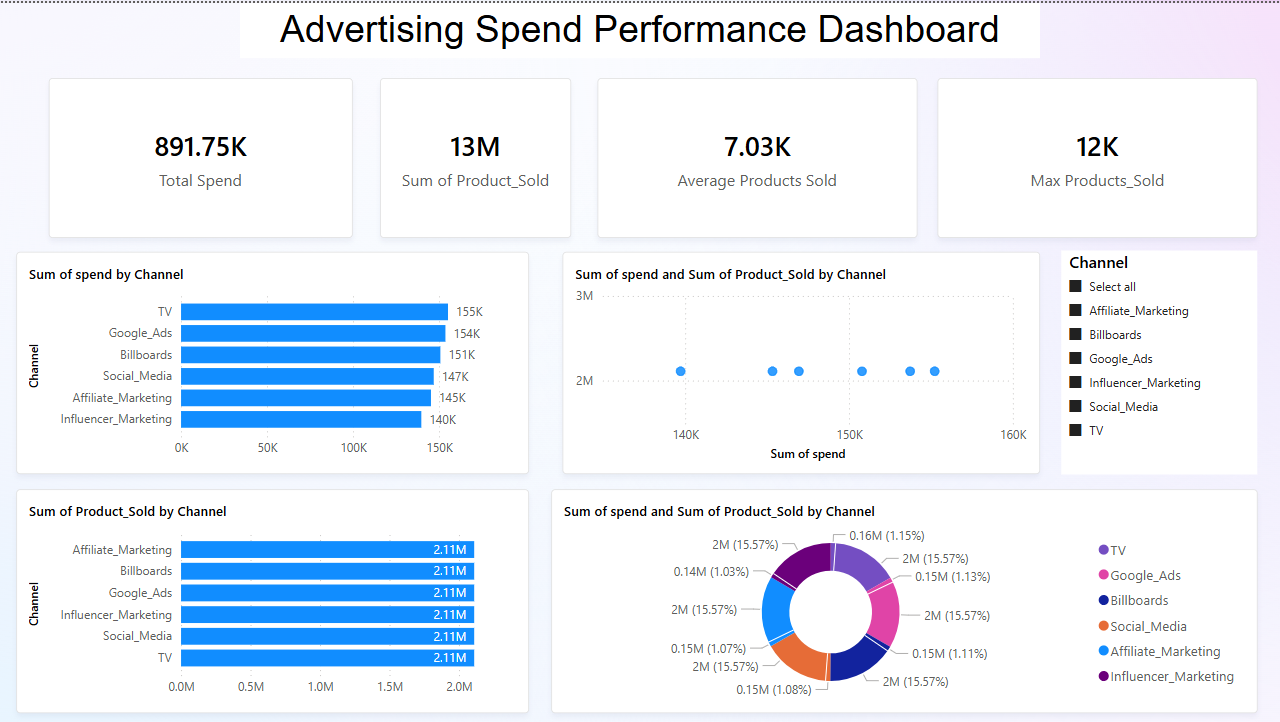

Layout of this report page (visuals, bound fields, positions):
{"tool":"powerbi","page":{"name":"Page 1","canvas":[1280,720],"ordinal":0},"visuals":[{"type":"card","fields":{"Values":["Sum(CampaignData.Product_Sold)"]},"box":[380,75,191.2,160],"z":1000},{"type":"card","fields":{"Values":["CampaignData.Total Spend"]},"box":[48.8,75,303.8,160],"z":4001},{"type":"card","fields":{"Values":["CampaignData.Average Products Sold"]},"box":[597.5,75,320,160],"z":4002},{"type":"card","fields":{"Values":["CampaignData.Max Products_Sold"]},"box":[937.5,75,320,160],"z":4004},{"type":"clusteredBarChart","fields":{"Category":["CampaignData.Channel"],"Y":["Sum(CampaignData.spend)"]},"box":[16.2,248.8,512.5,222.5],"z":4005},{"type":"clusteredBarChart","fields":{"Category":["CampaignData.Channel"],"Y":["Sum(CampaignData.Product_Sold)"]},"box":[16.2,486.2,512.5,223.8],"z":4006},{"type":"scatterChart","fields":{"X":["Sum(CampaignData.spend)"],"Y":["Sum(CampaignData.Product_Sold)"],"Category":["CampaignData.Channel"]},"box":[562.5,248.8,477.5,222.5],"z":4007},{"type":"slicer","fields":{"Values":["CampaignData.Channel"]},"box":[1061.2,247.5,196.2,223.8],"z":4008},{"type":"textbox","box":[240,0,800,55],"z":4009},{"type":"donutChart","fields":{"Category":["CampaignData.Channel"],"Y":["Sum(CampaignData.spend)","Sum(CampaignData.Product_Sold)"]},"box":[551.2,486.2,706.2,223.8],"z":4010}]}

Visuals, with their boxes in screenshot pixels (x1, y1, x2, y2), scaled from the page's 1280x720 canvas onto the 1280x722 screenshot:
card - Sum(CampaignData.Product_Sold): x1=380, y1=75, x2=571, y2=236
card - CampaignData.Total Spend: x1=49, y1=75, x2=353, y2=236
card - CampaignData.Average Products Sold: x1=598, y1=75, x2=918, y2=236
card - CampaignData.Max Products_Sold: x1=938, y1=75, x2=1258, y2=236
clusteredBarChart - CampaignData.Channel x Sum(CampaignData.spend): x1=16, y1=249, x2=529, y2=473
clusteredBarChart - CampaignData.Channel x Sum(CampaignData.Product_Sold): x1=16, y1=488, x2=529, y2=712
scatterChart - Sum(CampaignData.spend) x Sum(CampaignData.Product_Sold): x1=562, y1=249, x2=1040, y2=473
slicer - CampaignData.Channel: x1=1061, y1=248, x2=1257, y2=473
textbox: x1=240, y1=0, x2=1040, y2=55
donutChart - CampaignData.Channel x Sum(CampaignData.spend): x1=551, y1=488, x2=1257, y2=712
